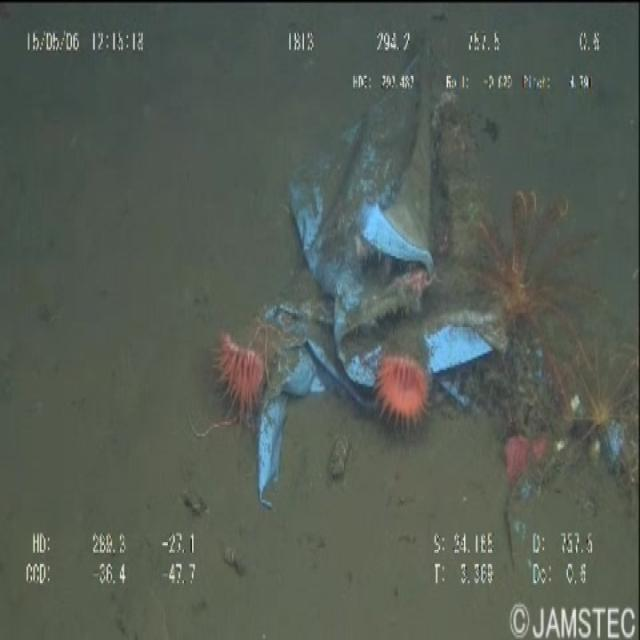Accessories: (221, 105, 567, 520)
